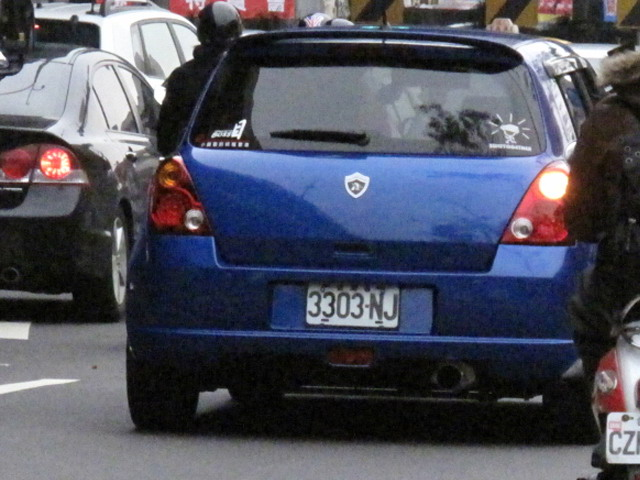plate: (307, 280, 403, 330)
